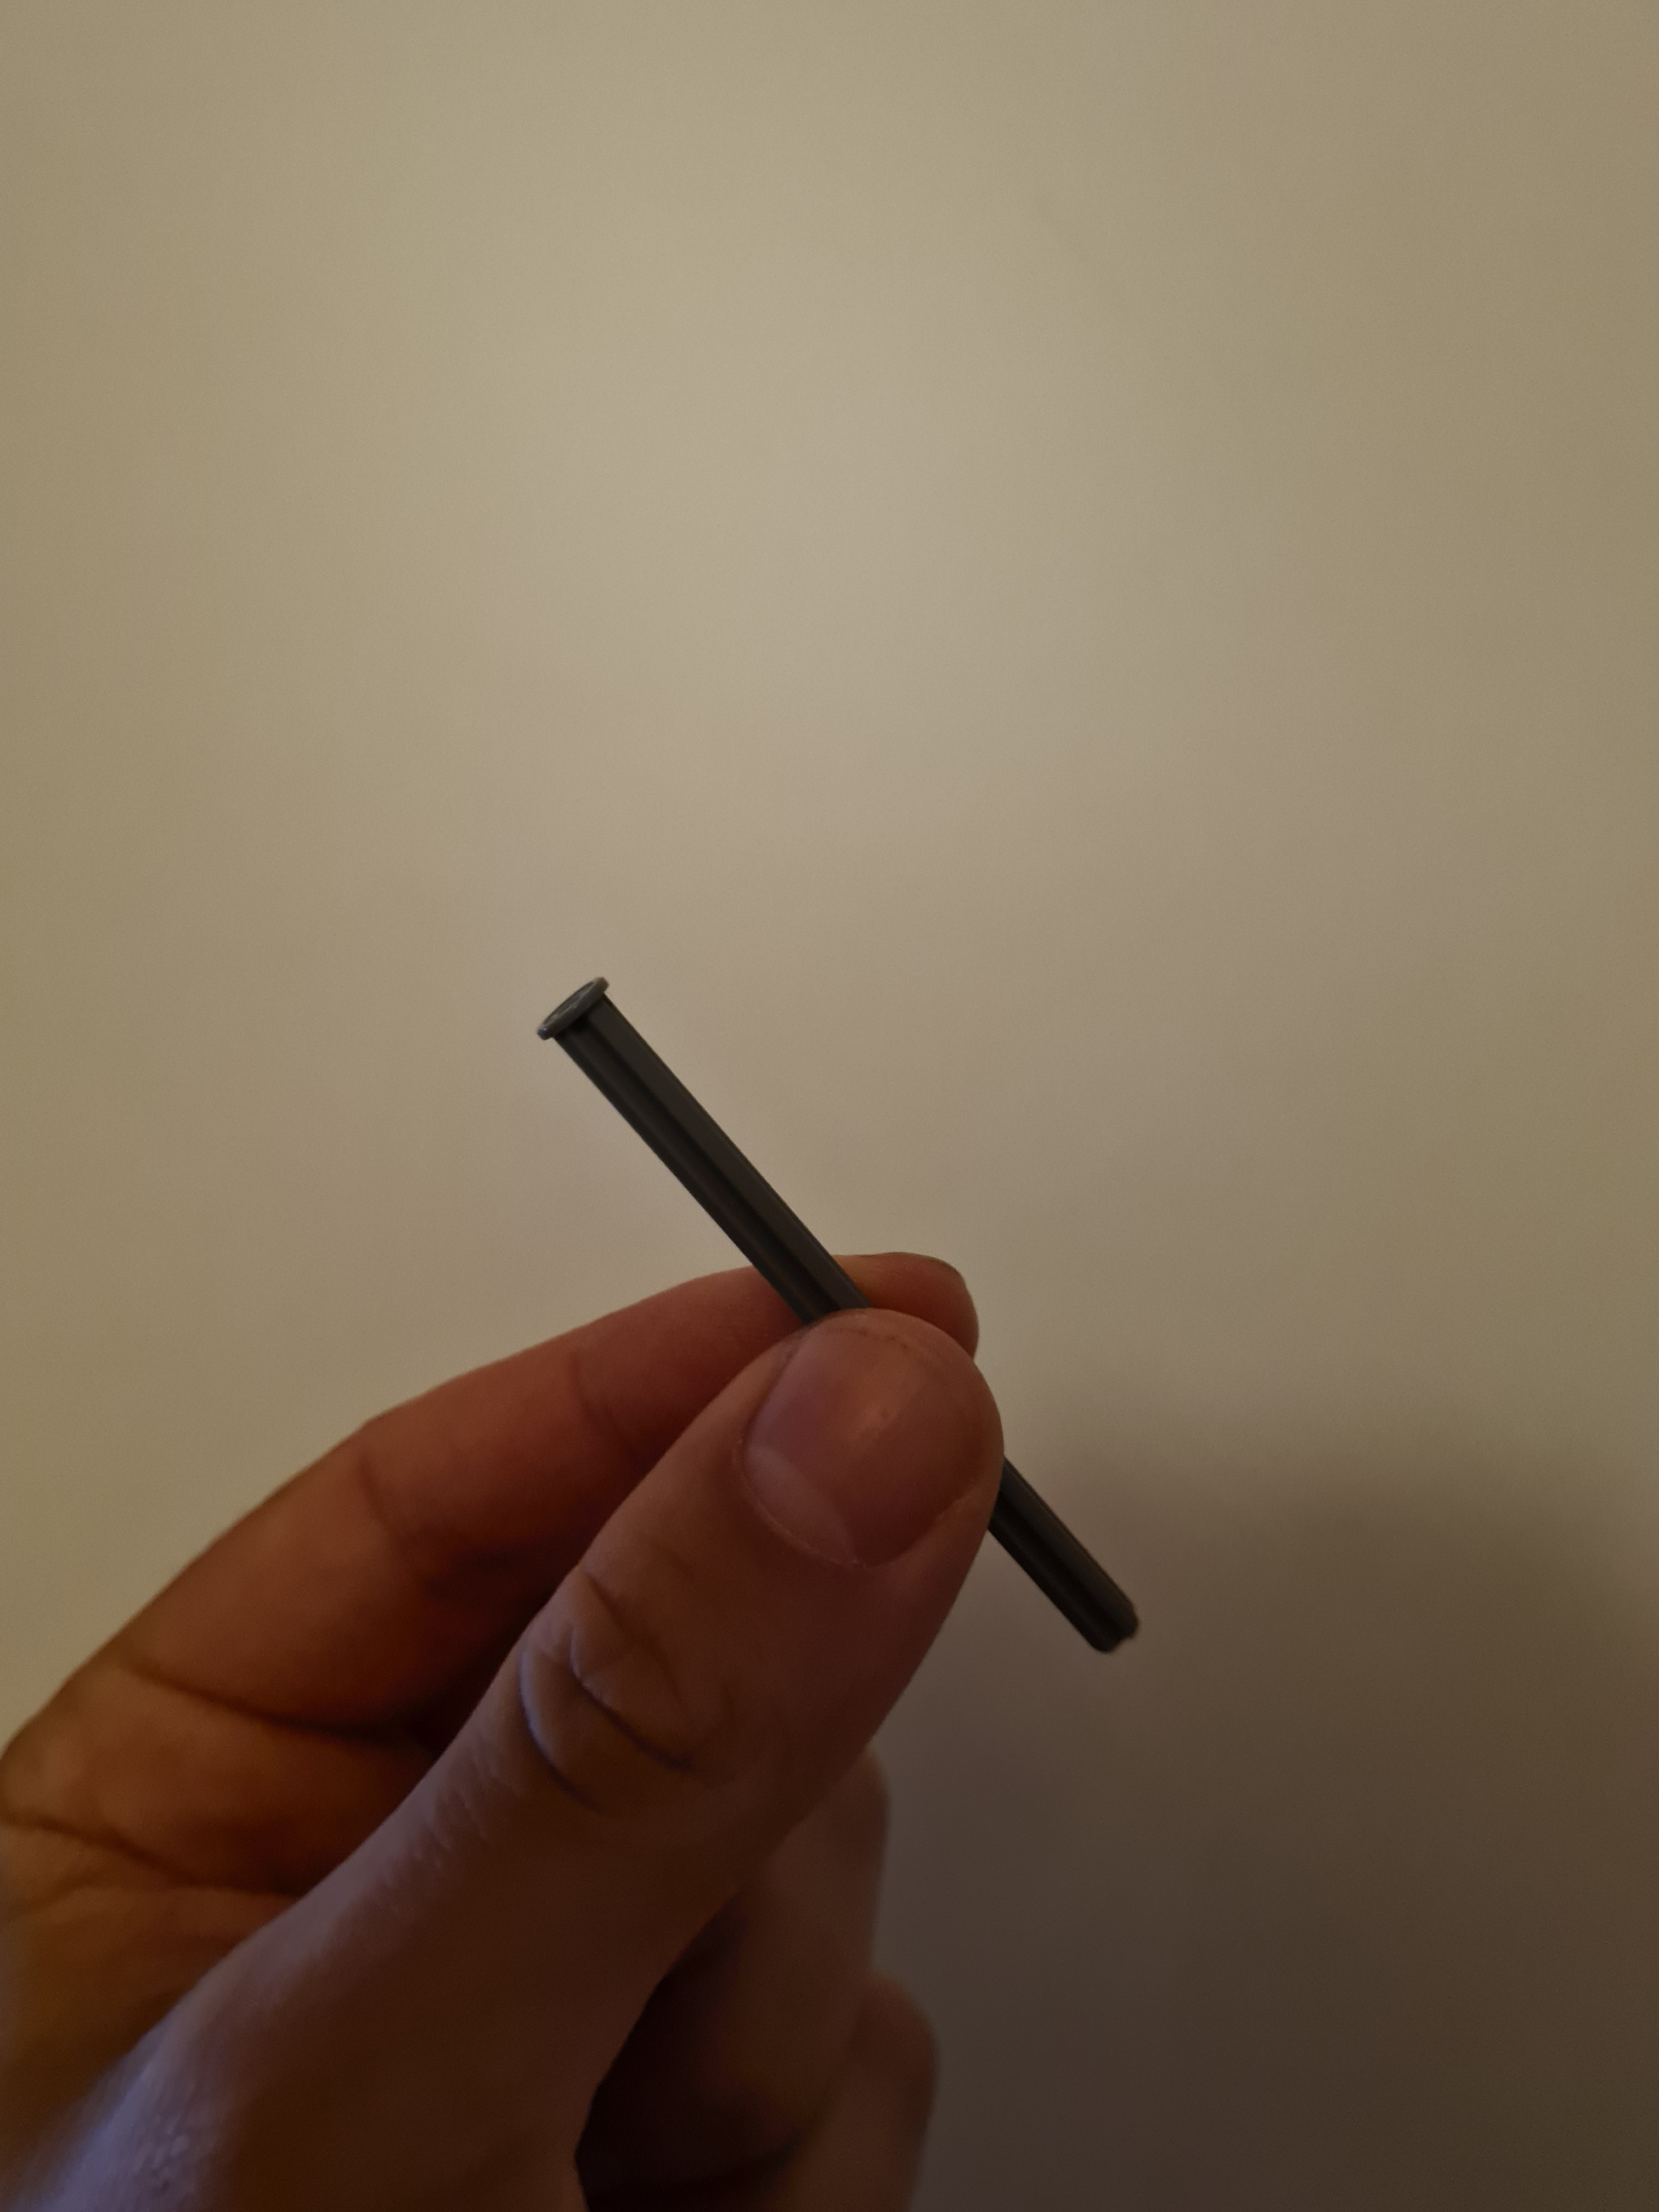Grau_lang: (537, 975, 1154, 1658)
